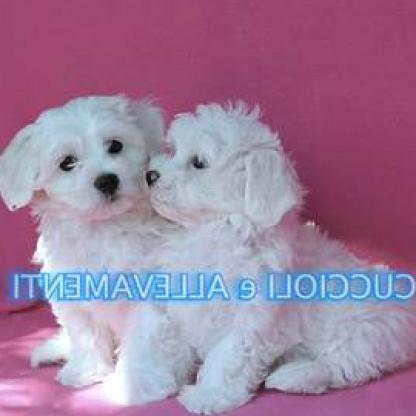dog: (123, 98, 416, 414), (1, 88, 168, 390)
